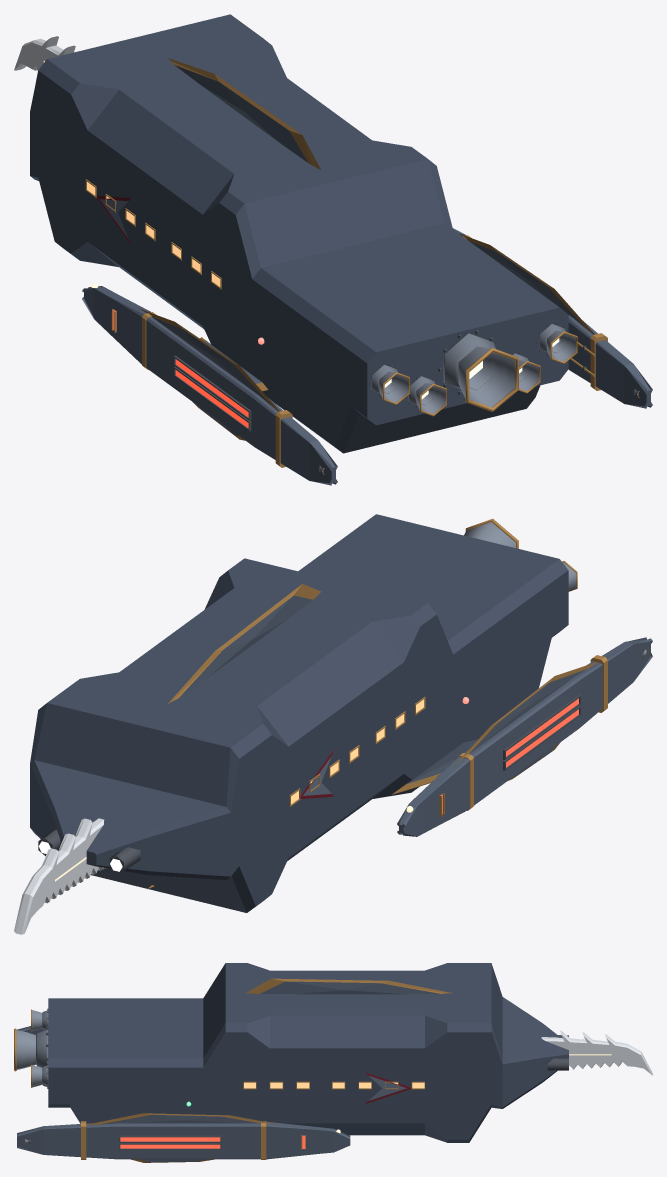
Rendered from corvette.glb.
3 renders of one model, top to bottom at view 1: azimuth 30°, elevation 25°; view 2: azimuth 150°, elevation 25°; view 3: azimuth 270°, elevation 25°, orthographic. The views are drawn at different scales.
Visible parts, largest first — view 1: hull_hull, nacelle_port_hull, nacelle_starboard_hull, hull_drive_bell, hull_drive_metal_2c3442, hull_drive_metal_7b4013, hull_weapons_blade_steel, nacelle_port_metal_14171d, nacelle_port_glow_grille, nacelle_port_metal_7b4013; view 2: hull_hull, nacelle_port_hull, hull_weapons_blade_steel, nacelle_port_metal_14171d, nacelle_port_glow_grille, hull_drive_bell, nacelle_port_metal_7b4013, hull_weapons_metal_14171d, hull_metal_7b4013; view 3: hull_hull, nacelle_starboard_hull, hull_weapons_blade_steel, hull_drive_bell, nacelle_starboard_glow_grille, nacelle_starboard_metal_14171d, hull_drive_metal_2c3442, hull_window, hull_marking, nacelle_starboard_metal_7b4013, hull_metal_7b4013.
Part boxes in pixels (box(x1,y1,x2,y2)): hull_hull: box(30, 14, 568, 453); nacelle_port_hull: box(82, 286, 337, 485); nacelle_starboard_hull: box(452, 228, 652, 408); hull_drive_bell: box(379, 330, 575, 413); hull_drive_metal_2c3442: box(371, 324, 565, 405); hull_drive_metal_7b4013: box(382, 331, 577, 416); hull_weapons_blade_steel: box(14, 36, 75, 70); nacelle_port_metal_14171d: box(173, 355, 319, 471); nacelle_port_glow_grille: box(113, 310, 248, 428); nacelle_port_metal_7b4013: box(111, 309, 324, 474); hull_hull: box(30, 514, 568, 912); nacelle_port_hull: box(391, 637, 652, 836); hull_weapons_blade_steel: box(14, 818, 106, 934); nacelle_port_metal_14171d: box(503, 653, 643, 770); nacelle_port_glow_grille: box(440, 698, 578, 813); hull_drive_bell: box(464, 522, 576, 590); nacelle_port_metal_7b4013: box(439, 649, 646, 816); hull_weapons_metal_14171d: box(38, 829, 140, 873); hull_metal_7b4013: box(289, 697, 425, 806); hull_hull: box(48, 963, 568, 1142); nacelle_starboard_hull: box(17, 1113, 350, 1162); hull_weapons_blade_steel: box(541, 1030, 652, 1075); hull_drive_bell: box(16, 1010, 42, 1087); nacelle_starboard_glow_grille: box(120, 1135, 305, 1148); nacelle_starboard_metal_14171d: box(30, 1135, 221, 1149); hull_drive_metal_2c3442: box(36, 1010, 48, 1086); hull_window: box(244, 1082, 424, 1088); hull_marking: box(365, 1072, 411, 1103); nacelle_starboard_metal_7b4013: box(25, 1121, 305, 1159); hull_metal_7b4013: box(243, 1081, 424, 1089).
Bounding box in the file's own units: 23.26 × 15.33 × 57.65.
